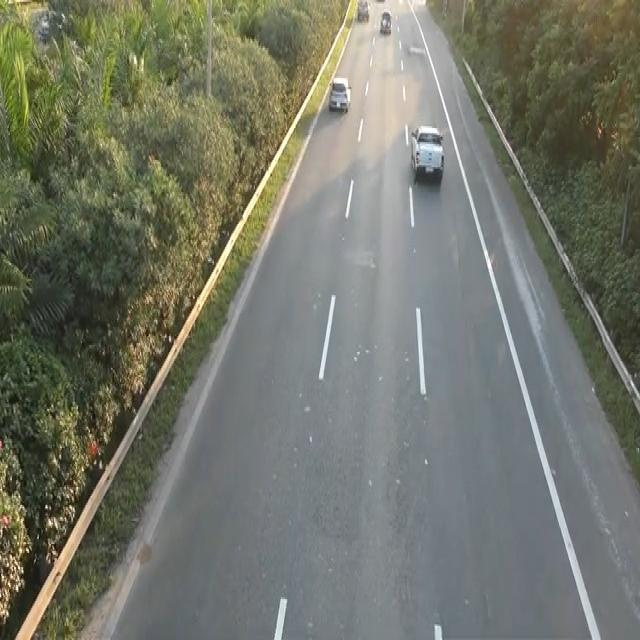bus: (328, 73, 352, 112)
car: (407, 119, 448, 189), (378, 9, 392, 34)
